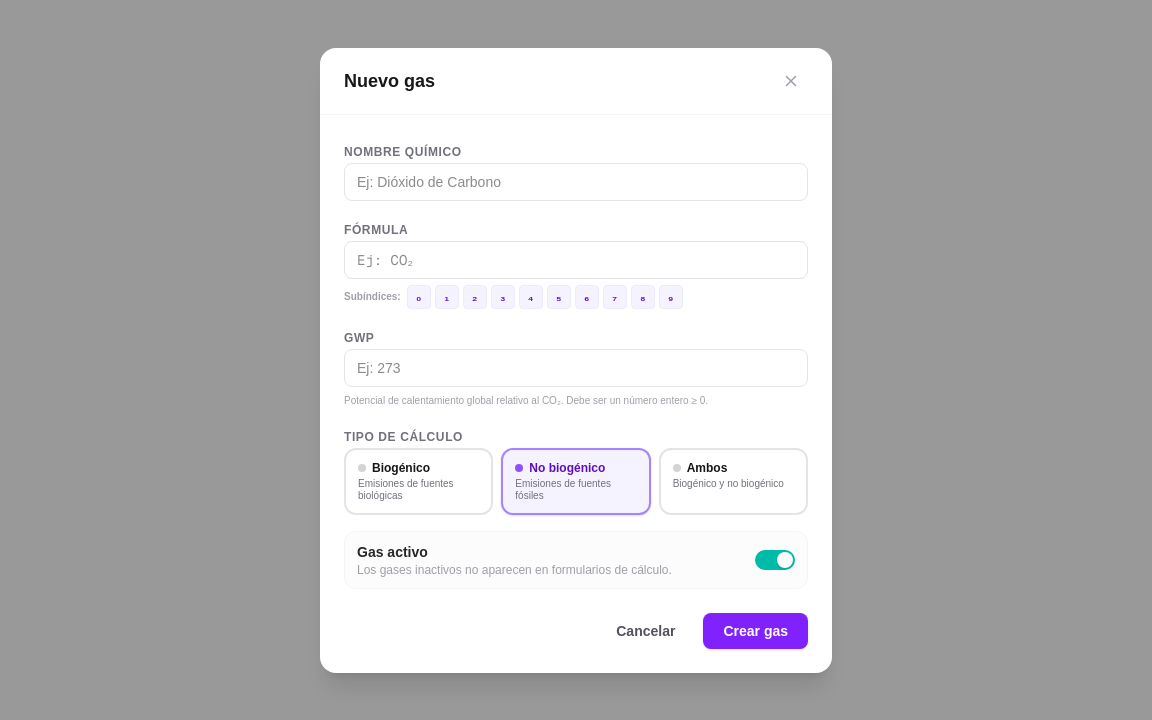
Scenario: GasFormModal › G-18 — GWP negativo › muestra error cuando el GWP es negativo
The width and height of the screenshot is (1152, 720).
Type "-5" into the number field with placeholder "Ej: 273" at (576, 368), box [344, 348, 808, 386]
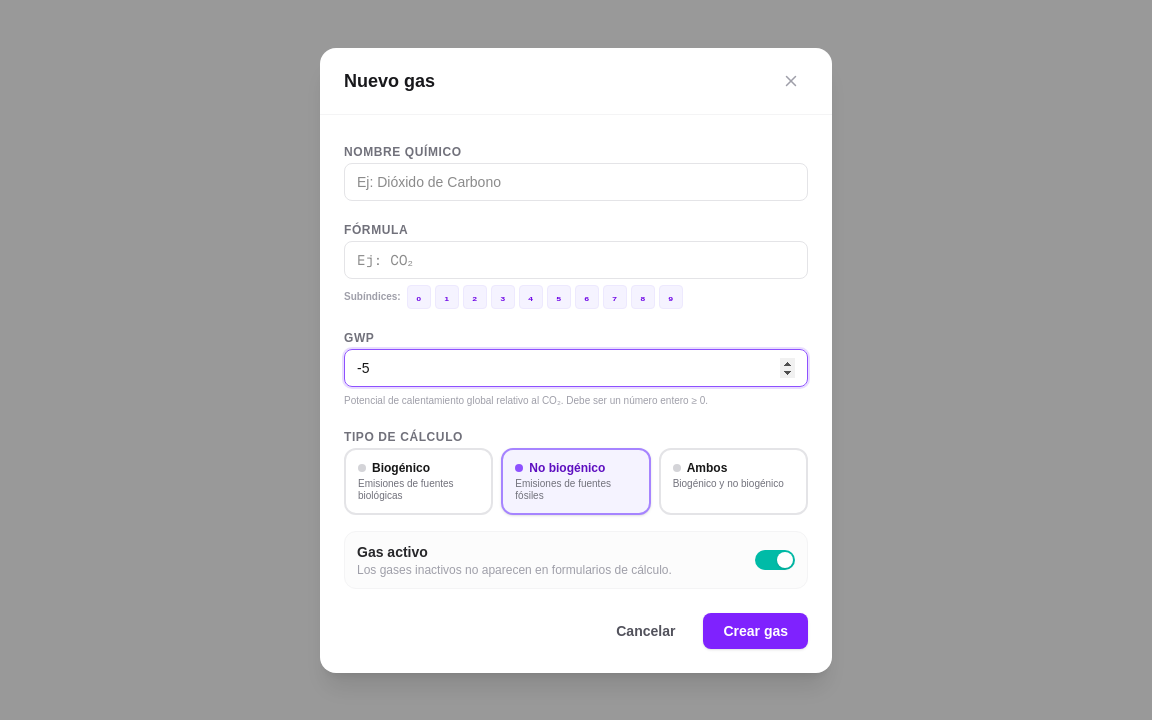
Click the button "Crear gas" at (756, 630), box [703, 612, 808, 648]
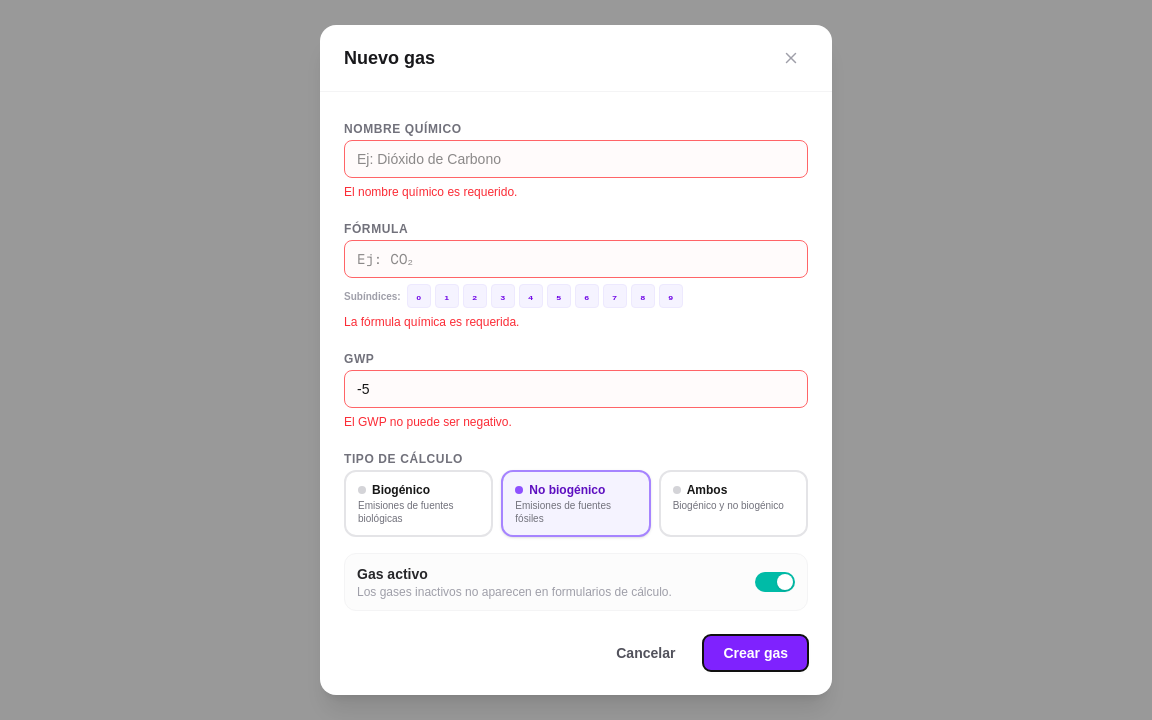
expect the text "El GWP no puede ser negativo." is shown: met, box [344, 415, 512, 429]
